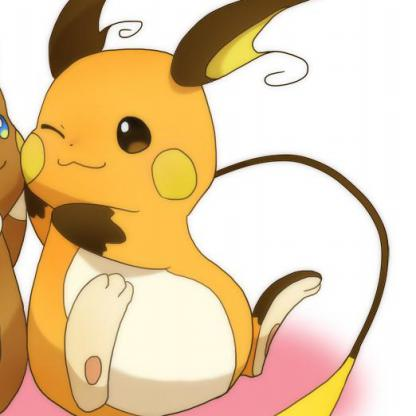Raichu: (1, 3, 416, 416)
